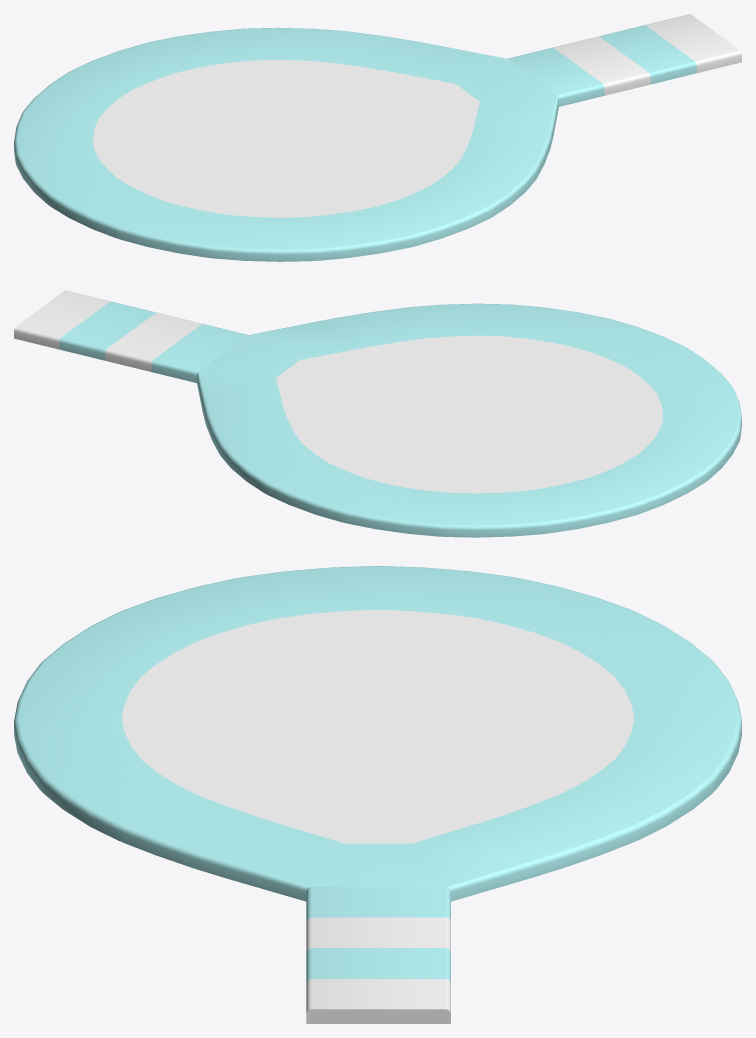
File: FinishCircle_blue.fbx
The picture shows the model from 3 angles, top to bottom: view 1: azimuth 30°, elevation 25°; view 2: azimuth 150°, elevation 25°; view 3: azimuth 270°, elevation 25°; orthographic projection. The views are drawn at different scales.
Parts seen in each view (by area): view 1: FinishCircle; view 2: FinishCircle; view 3: FinishCircle.
Part boxes in pixels (x1=…): FinishCircle: x1=14, y1=14, x2=741, y2=261; FinishCircle: x1=14, y1=290, x2=741, y2=537; FinishCircle: x1=14, y1=566, x2=741, y2=1023.
Bounding box in the file's own units: 2184 × 33.69 × 1510.
1 material, 1 textured.
